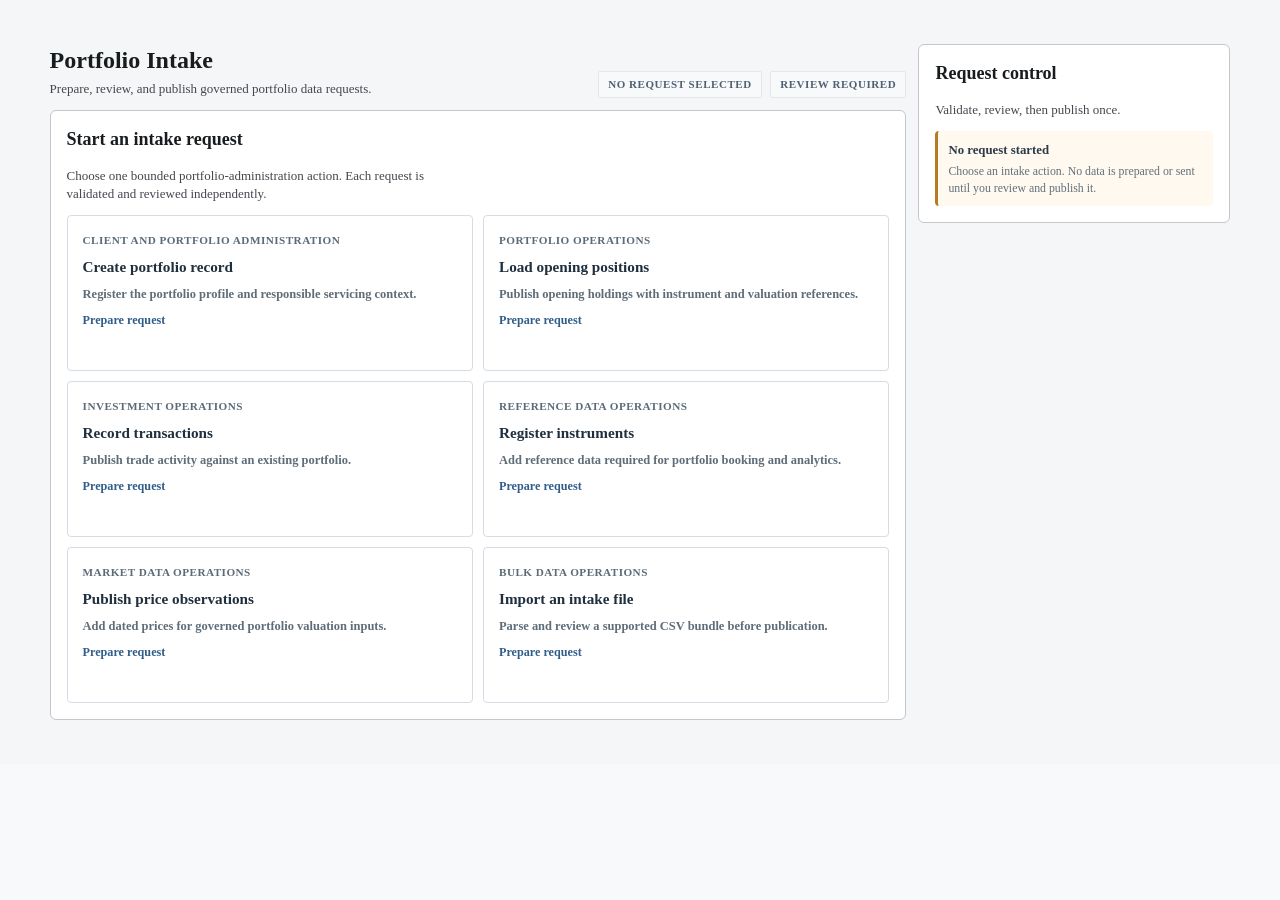
Test case: IntakePage › shows every concrete validation gap and never publishes from first paint
Click the button "Create portfolio record": (270, 293) x1=67 y1=215 x2=473 y2=371
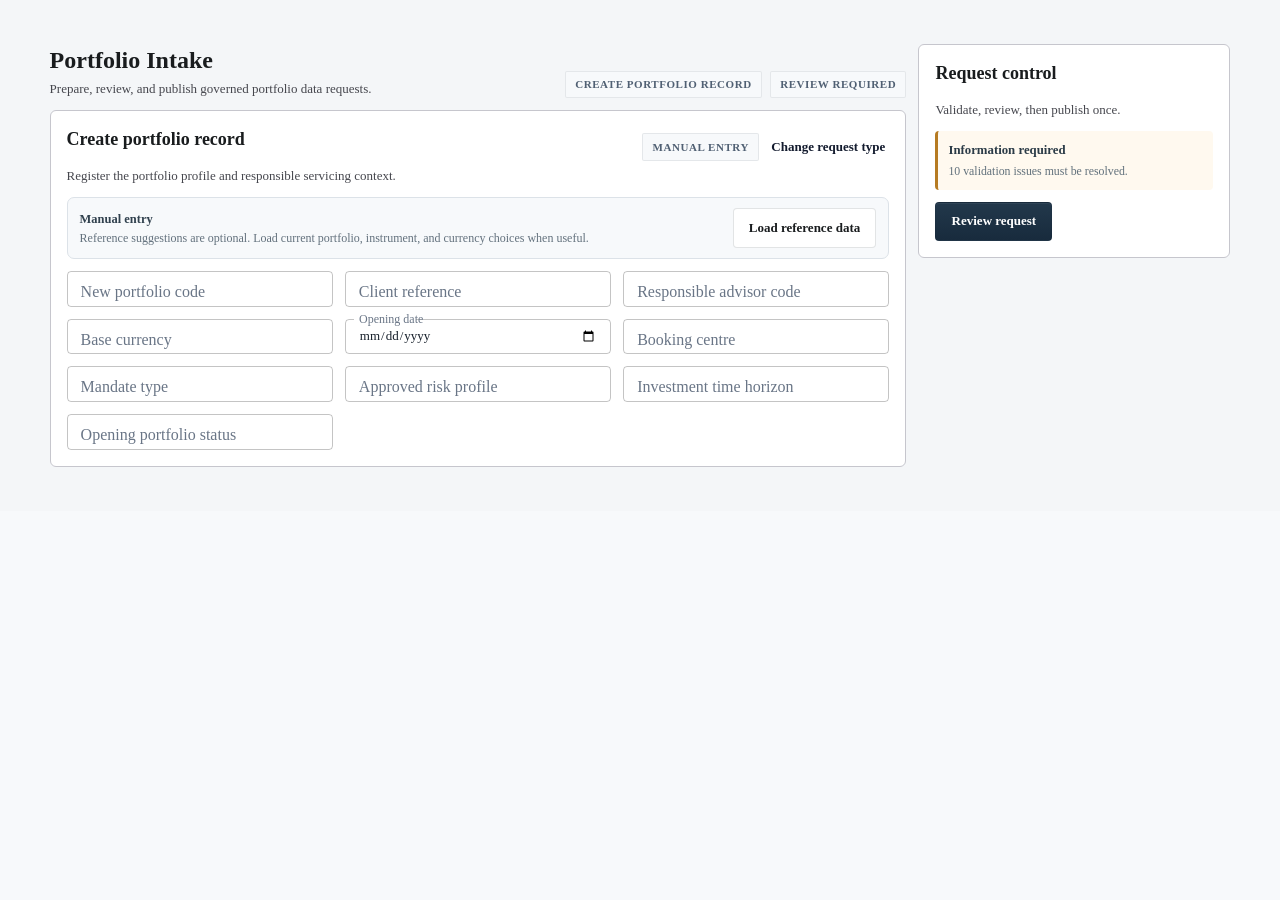
Result: the heading "Create portfolio record" is shown at x1=67 y1=129 x2=245 y2=149
Result: the dropdown labelled "New portfolio code" is empty at x1=73 y1=277 x2=294 y2=300
Click the button "Review request": (994, 222) x1=935 y1=202 x2=1052 y2=241
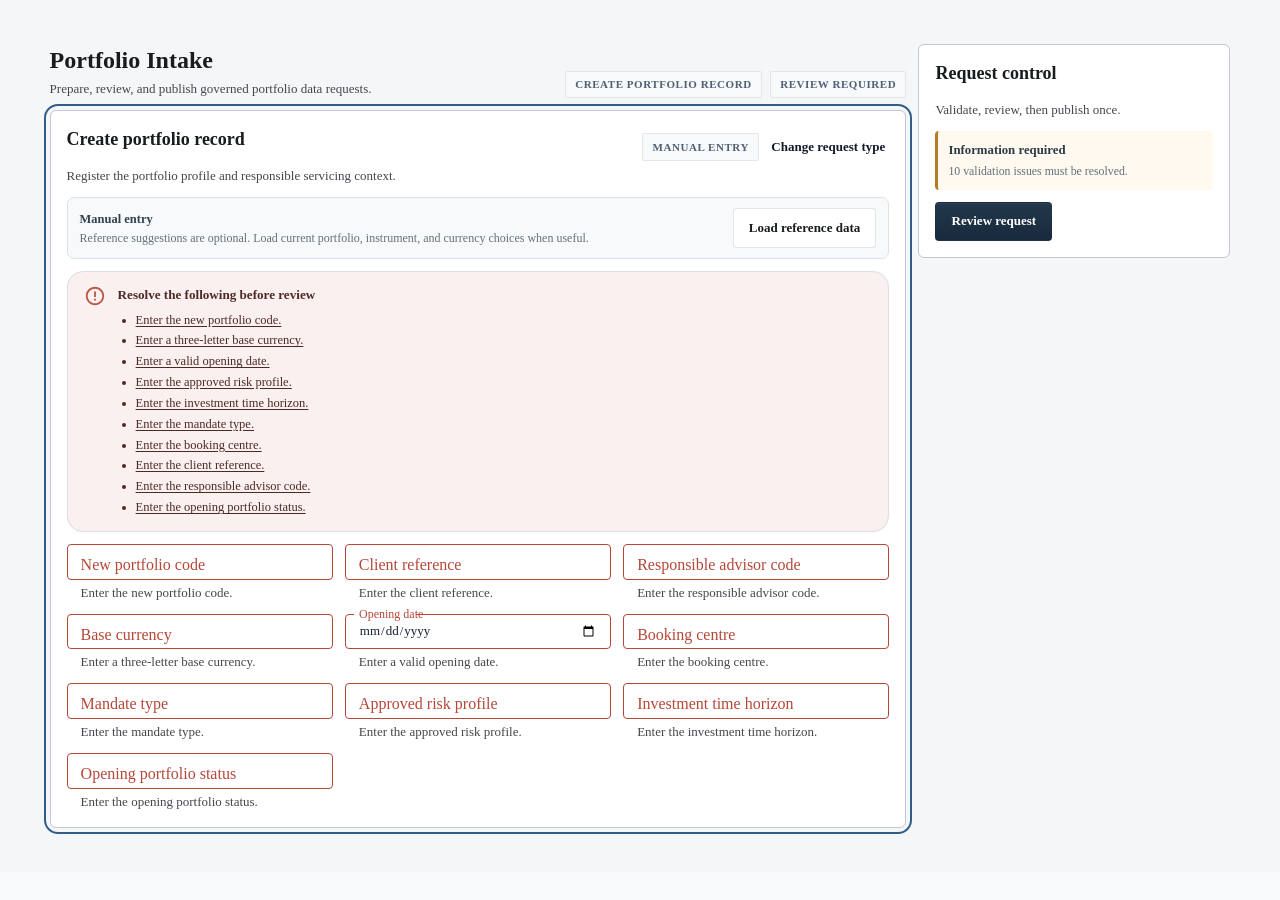
Result: the text "10 validation issues must be resolved." is shown at x1=948 y1=164 x2=1128 y2=178
Result: the text "Resolve the following before review" is shown at x1=118 y1=286 x2=315 y2=305
